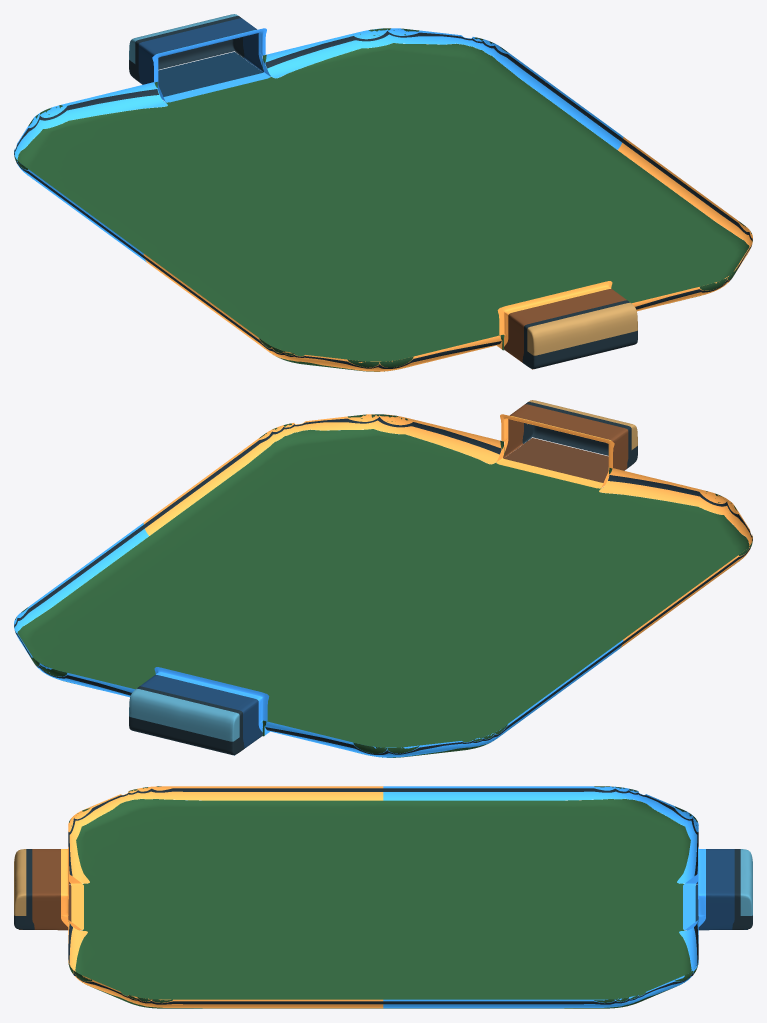
The model's file is champions-inner.glb.
The picture shows the model from 3 angles, top to bottom: view 1: azimuth 30°, elevation 25°; view 2: azimuth 150°, elevation 25°; view 3: azimuth 270°, elevation 25°; orthographic projection. The views are drawn at different scales.
Parts seen in each view (by area): view 1: Champions_Inner_turf, Champions_Inner_perimeter_trim_Blue, Champions_Inner_perimeter_trim_Orange, Champions_Inner_goal_back_insert_Orange, Champions_Inner_ramp_trim_Blue, Champions_Inner_goal_interior_Blue, Champions_Inner_goal_floor_Blue, Champions_Inner_goal_interior_Orange, Champions_Inner_ramp_trim_Orange, Champions_Inner_goal_back_structure_Orange, Champions_Inner_goal_back_structure_Blue, Champions_Inner_goal_frame_Blue (+1 smaller); view 2: Champions_Inner_turf, Champions_Inner_perimeter_trim_Orange, Champions_Inner_perimeter_trim_Blue, Champions_Inner_goal_back_insert_Blue, Champions_Inner_ramp_trim_Orange, Champions_Inner_goal_interior_Orange, Champions_Inner_goal_floor_Orange, Champions_Inner_goal_interior_Blue, Champions_Inner_ramp_trim_Blue, Champions_Inner_goal_back_structure_Blue, Champions_Inner_goal_back_structure_Orange, Champions_Inner_goal_frame_Orange (+1 smaller); view 3: Champions_Inner_turf, Champions_Inner_perimeter_trim_Orange, Champions_Inner_perimeter_trim_Blue, Champions_Inner_ramp_trim_Orange, Champions_Inner_ramp_trim_Blue, Champions_Inner_goal_interior_Blue, Champions_Inner_goal_interior_Orange, Champions_Inner_goal_frame_Blue, Champions_Inner_goal_frame_Orange, Champions_Inner_goal_back_insert_Blue, Champions_Inner_goal_back_insert_Orange, Champions_Inner_goal_back_structure_Blue (+1 smaller).
Part boxes in pixels (box(x1,y1,x2,y2)): Champions_Inner_turf: box(14, 28, 752, 371); Champions_Inner_perimeter_trim_Blue: box(14, 28, 623, 262); Champions_Inner_perimeter_trim_Orange: box(143, 137, 752, 371); Champions_Inner_goal_back_insert_Orange: box(527, 302, 637, 355); Champions_Inner_ramp_trim_Blue: box(14, 31, 622, 258); Champions_Inner_goal_interior_Blue: box(138, 18, 263, 84); Champions_Inner_goal_floor_Blue: box(158, 52, 262, 96); Champions_Inner_goal_interior_Orange: box(504, 288, 626, 362); Champions_Inner_ramp_trim_Orange: box(144, 139, 752, 368); Champions_Inner_goal_back_structure_Orange: box(522, 300, 637, 368); Champions_Inner_goal_back_structure_Blue: box(129, 16, 244, 82); Champions_Inner_goal_frame_Blue: box(152, 28, 270, 102); Champions_Inner_turf: box(14, 414, 752, 757); Champions_Inner_perimeter_trim_Orange: box(143, 414, 752, 648); Champions_Inner_perimeter_trim_Blue: box(14, 523, 623, 757); Champions_Inner_goal_back_insert_Blue: box(129, 688, 239, 741); Champions_Inner_ramp_trim_Orange: box(144, 417, 752, 644); Champions_Inner_goal_interior_Orange: box(503, 404, 628, 470); Champions_Inner_goal_floor_Orange: box(504, 438, 608, 482); Champions_Inner_goal_interior_Blue: box(140, 674, 262, 748); Champions_Inner_ramp_trim_Blue: box(14, 525, 622, 754); Champions_Inner_goal_back_structure_Blue: box(129, 686, 244, 754); Champions_Inner_goal_back_structure_Orange: box(522, 402, 637, 468); Champions_Inner_goal_frame_Orange: box(496, 414, 614, 488); Champions_Inner_turf: box(68, 786, 698, 1008); Champions_Inner_perimeter_trim_Orange: box(68, 786, 383, 1008); Champions_Inner_perimeter_trim_Blue: box(383, 786, 698, 1008); Champions_Inner_ramp_trim_Orange: box(68, 788, 383, 1004); Champions_Inner_ramp_trim_Blue: box(383, 788, 698, 1004); Champions_Inner_goal_interior_Blue: box(696, 849, 734, 930); Champions_Inner_goal_interior_Orange: box(32, 849, 70, 930); Champions_Inner_goal_frame_Blue: box(683, 847, 705, 930); Champions_Inner_goal_frame_Orange: box(61, 847, 83, 930); Champions_Inner_goal_back_insert_Blue: box(740, 849, 752, 915); Champions_Inner_goal_back_insert_Orange: box(14, 849, 26, 915); Champions_Inner_goal_back_structure_Blue: box(732, 849, 752, 929).
Size of the model in its own units: 81.92 by 7.07 by 120.
